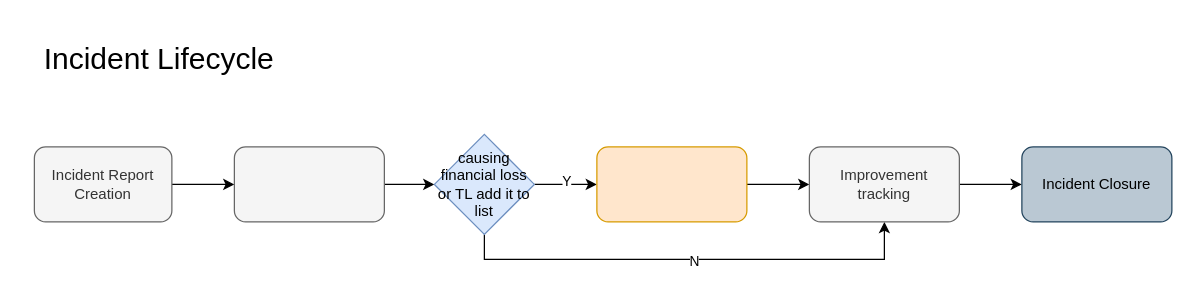
This 1194x291 diagram has some shape labels left out. The centre of each missing label's shape, as x and y in pixels:
Internal Review: (308,184)
Presentation: (671,184)
